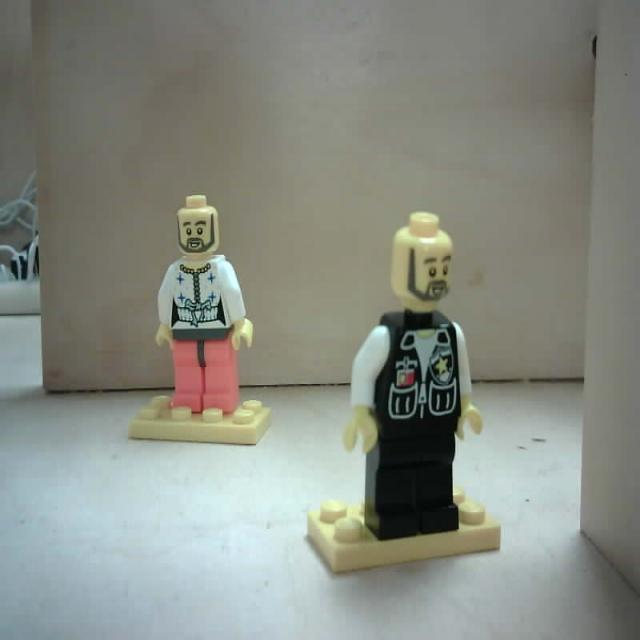Lego-People: (305, 213, 502, 576), (130, 193, 272, 449)
